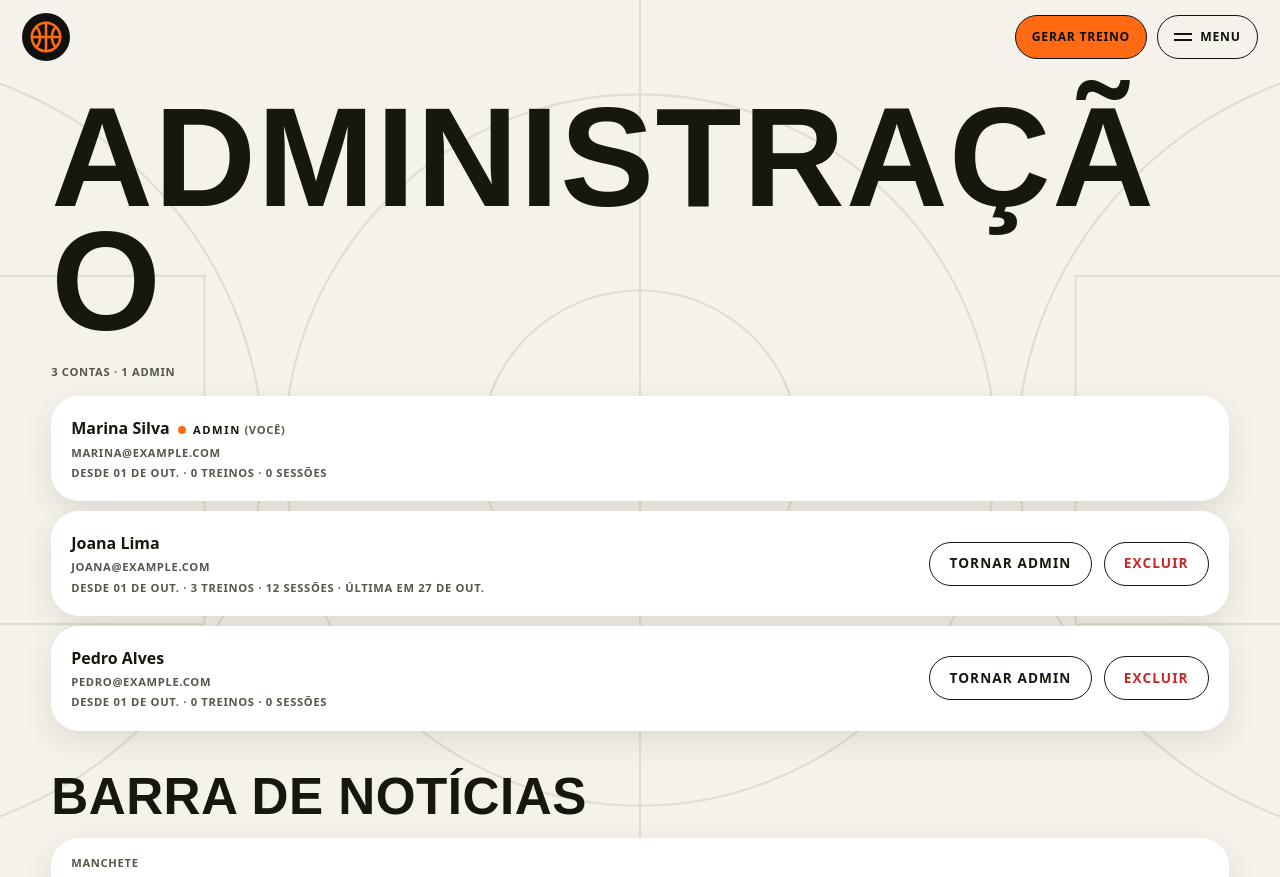
it: Painel admin › mostra o erro quando a API recusa a ação
Click the button "Tornar admin" in the row of "Pedro Alves". click: (1010, 678)
box: [929,656,1092,700]
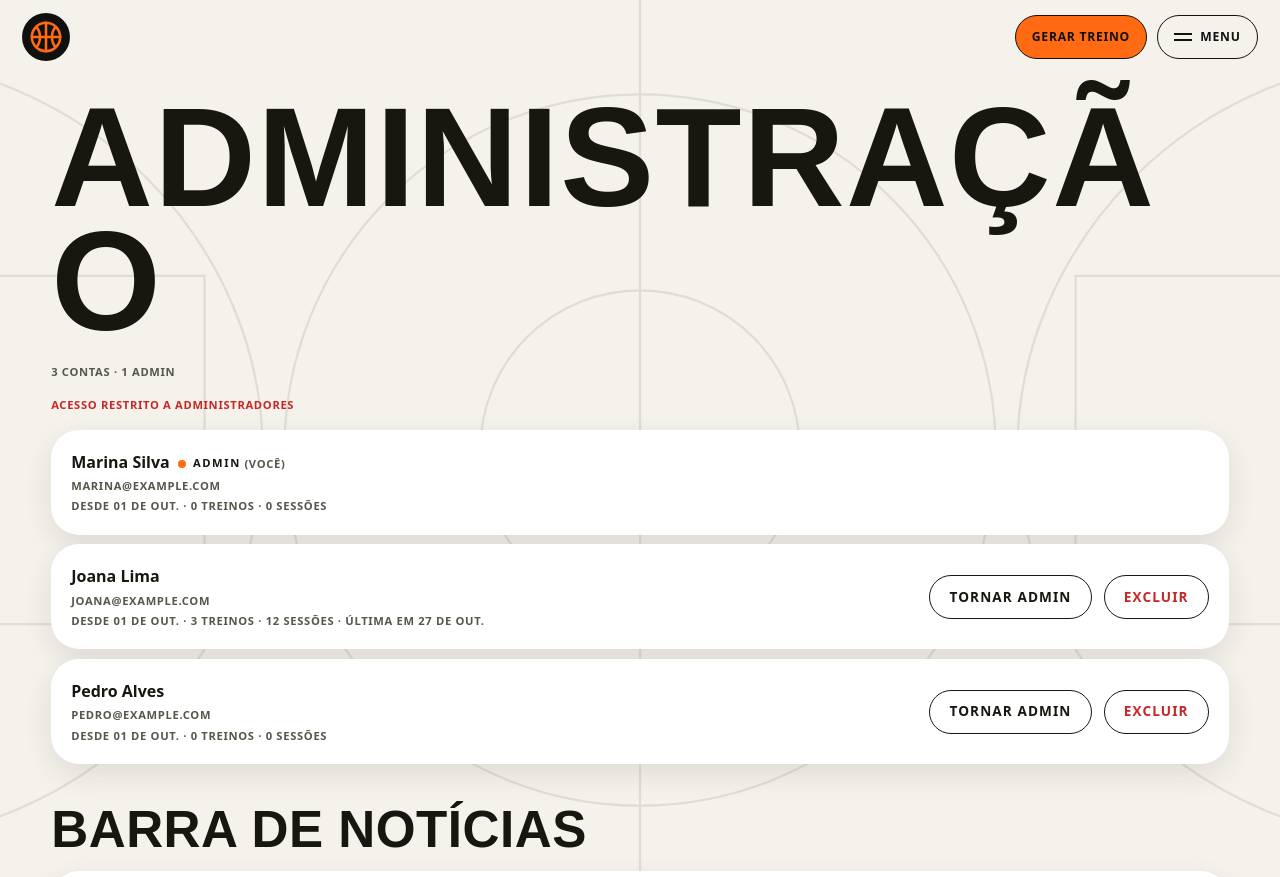
expect the button "Tornar admin" in the row of "Pedro Alves" is enabled: met, box [929,690,1092,734]
expect the message reads "Acesso restrito a administradores": met, box [51,397,294,412]
